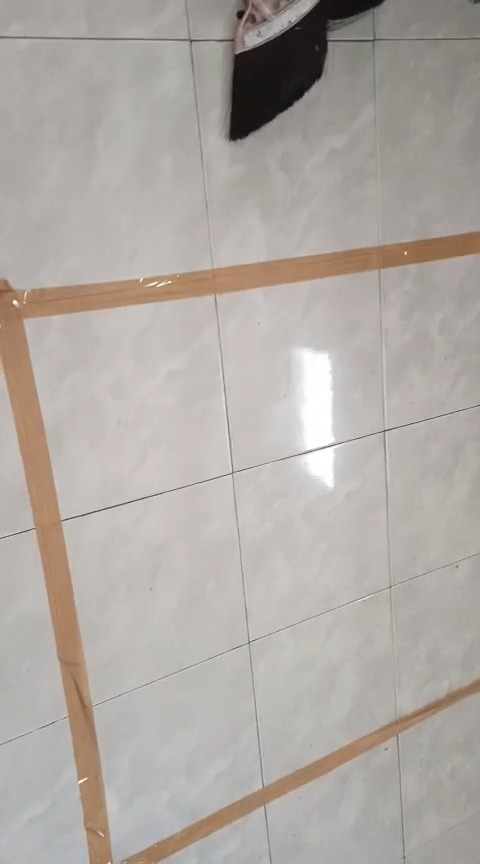floor marking: (1, 232, 479, 863), (126, 679, 479, 863)
